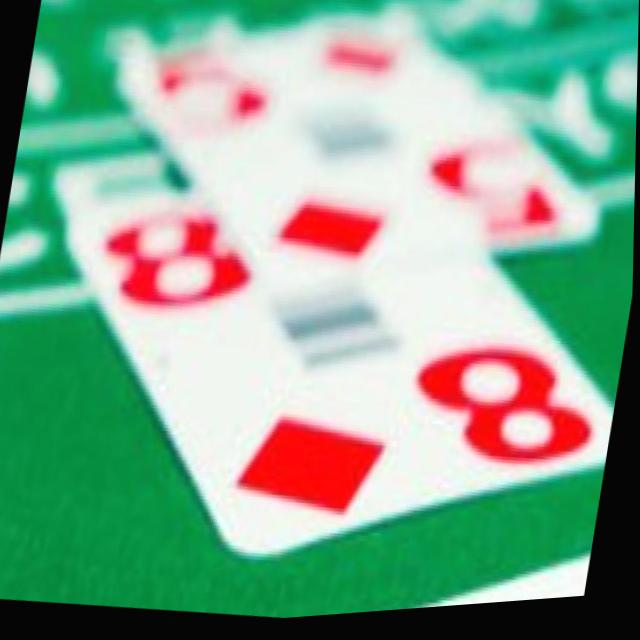Card-5: (120, 18, 602, 316)
Card-8: (67, 195, 614, 562)
